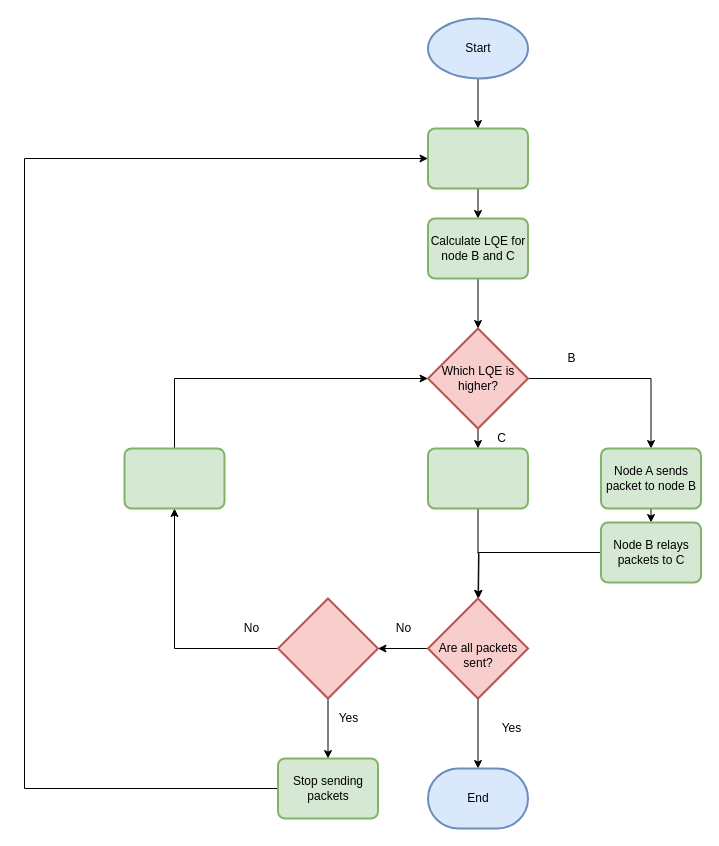
Image size: 719x846. Some labels were removed from this diagram. Each missing label, with the centre of its shape:
"Have 100 packets been sent?" belongs at (327,648).
"Node A sends packet to node C" belongs at (477,478).
"Probe node B and C 10 times" belongs at (477,158).
"Send next packet" belongs at (174,478).
